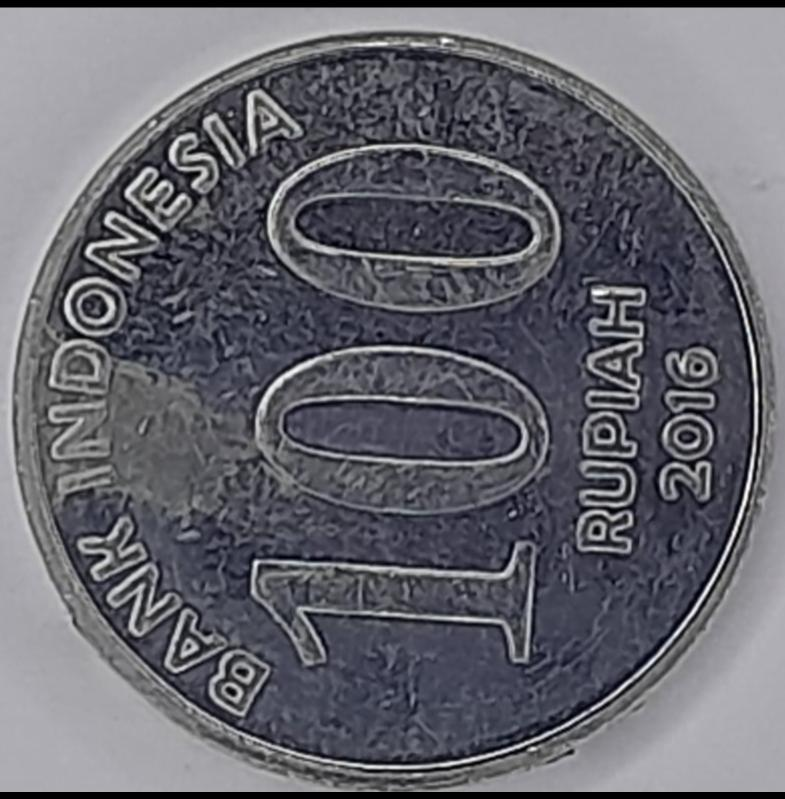coin_100_e2016: (5, 26, 780, 788)
